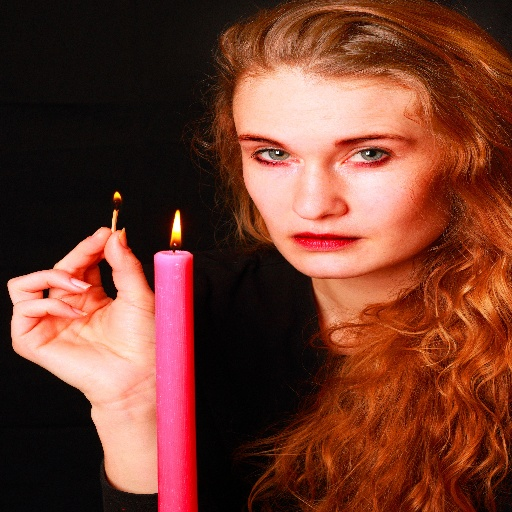hand: (3, 215, 178, 493)
